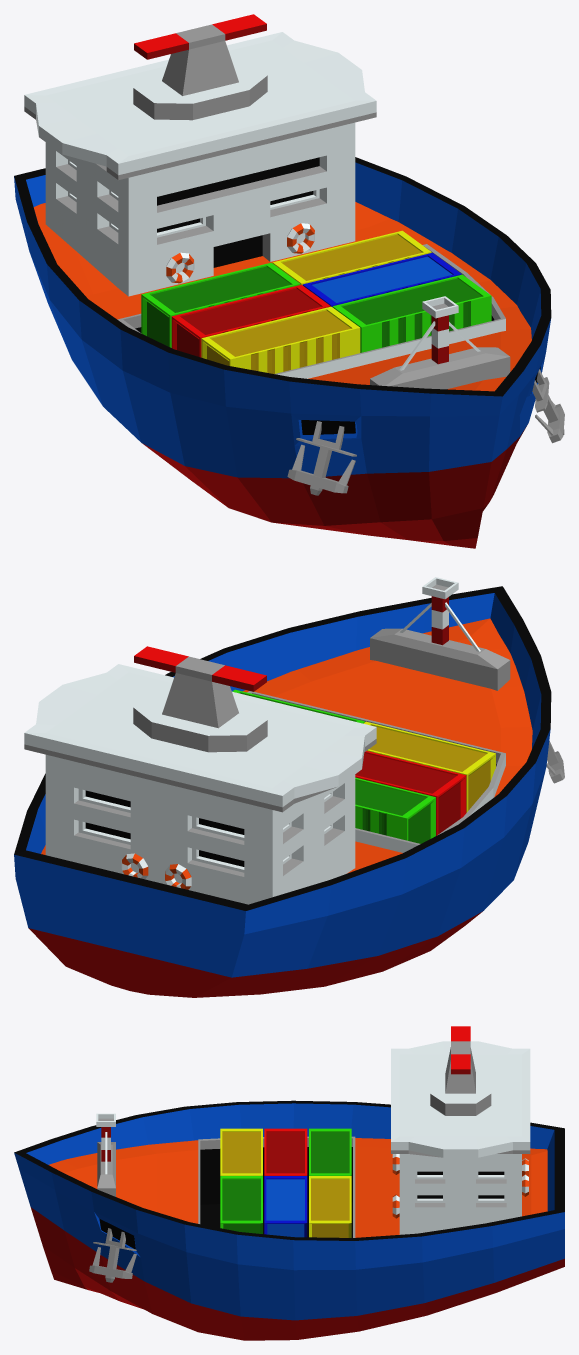
File: container_ship.glb
3 views of the same model, one above another, from view 1: azimuth 30°, elevation 25°; view 2: azimuth 150°, elevation 25°; view 3: azimuth 270°, elevation 25° (orthographic). The views are drawn at different scales.
Parts seen in each view (by area): view 1: Cargo_Ship_LowPoly; view 2: Cargo_Ship_LowPoly; view 3: Cargo_Ship_LowPoly.
Boxes of the visible parts, x1,y1,x2,y2 form: Cargo_Ship_LowPoly: [14, 14, 564, 548]; Cargo_Ship_LowPoly: [14, 577, 564, 997]; Cargo_Ship_LowPoly: [14, 1026, 564, 1340].
Size of the model in its own units: 5.21 by 4.64 by 8.7.
Materials: 1 (1 with a texture image).
